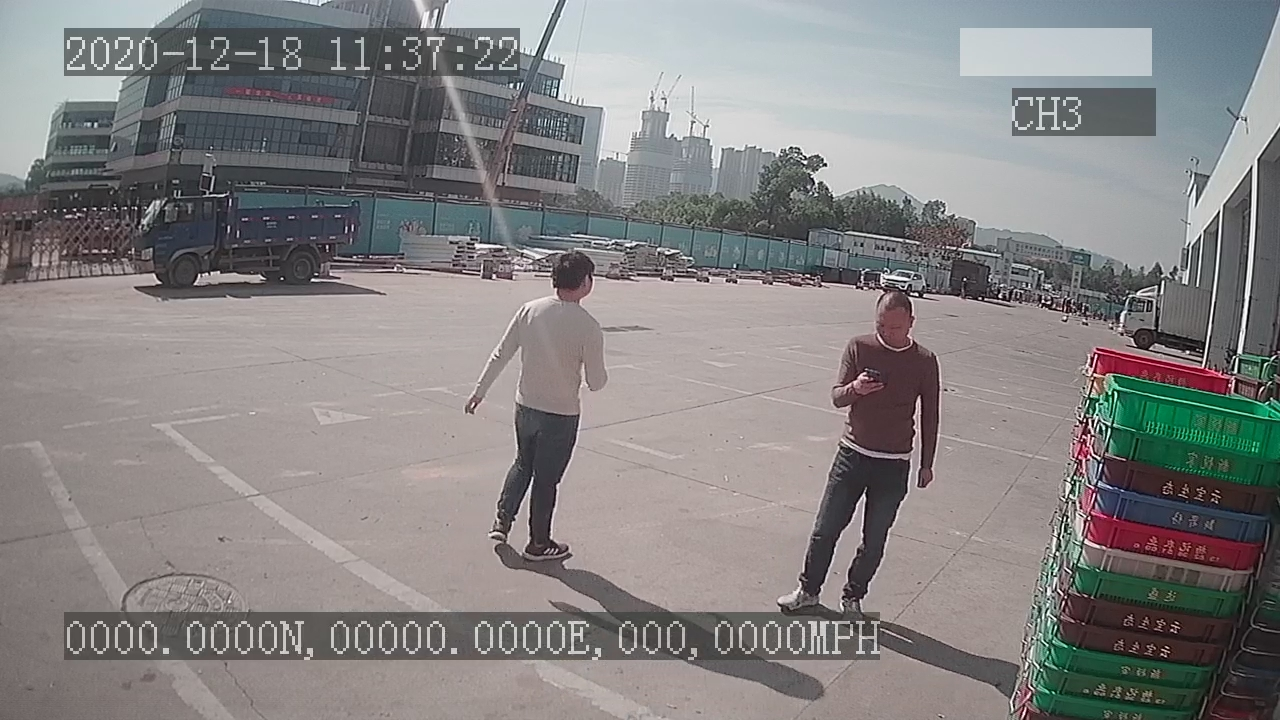person: (465, 241, 615, 567)
